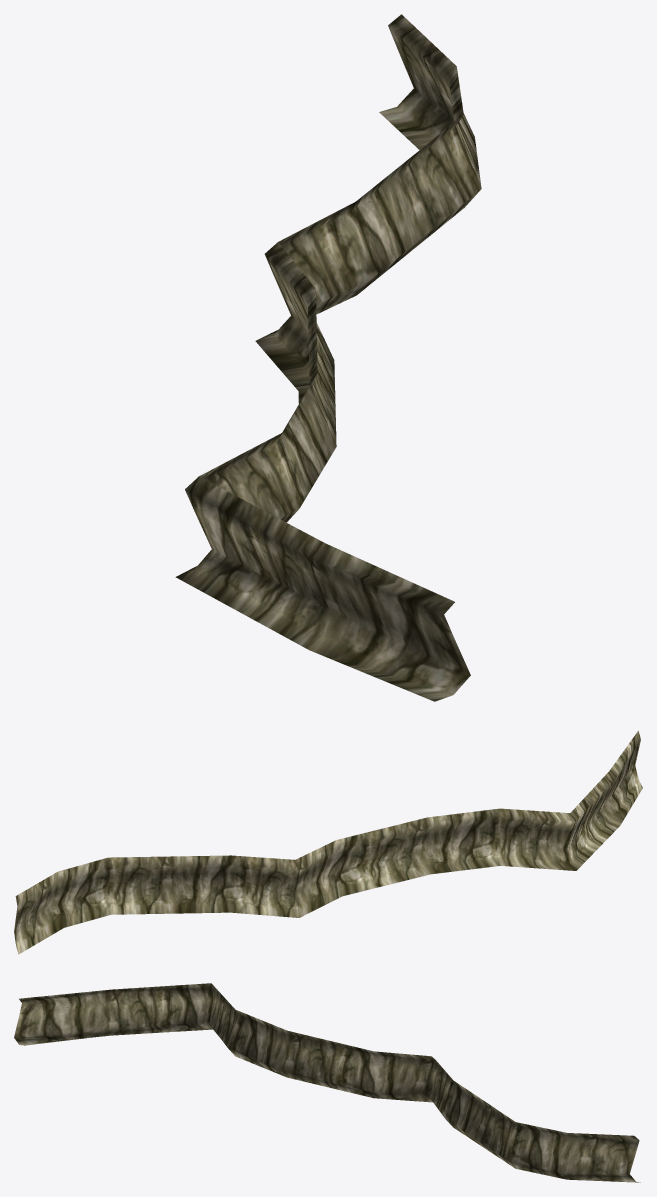
The model's file is CB_NEWPLAYSURFACE_CB_PLAYSURFACE97.fbx.
The picture shows the model from 3 angles, top to bottom: view 1: azimuth 30°, elevation 25°; view 2: azimuth 150°, elevation 25°; view 3: azimuth 270°, elevation 25°; orthographic projection. The views are drawn at different scales.
Parts seen in each view (by area): view 1: CB_NEWPLAYSURFACE_CB_PLAYSURFACE97; view 2: CB_NEWPLAYSURFACE_CB_PLAYSURFACE97; view 3: CB_NEWPLAYSURFACE_CB_PLAYSURFACE97.
Boxes of the visible parts, x1,y1,x2,y2 form: CB_NEWPLAYSURFACE_CB_PLAYSURFACE97: (175,14,481,701); CB_NEWPLAYSURFACE_CB_PLAYSURFACE97: (14,730,642,954); CB_NEWPLAYSURFACE_CB_PLAYSURFACE97: (14,983,640,1182).
Size of the model in its own units: 238928 by 35371 by 399914.
1 material, 1 textured.
